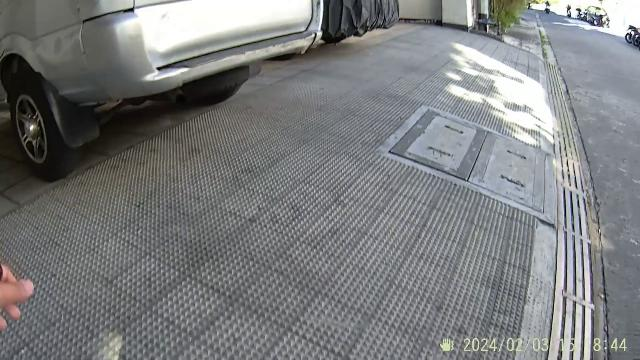car: (1, 0, 340, 176)
